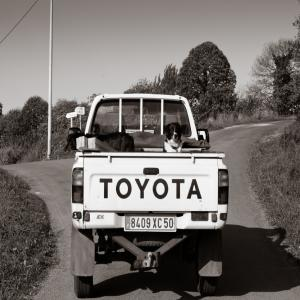Vehicle-registration-plate: (125, 215, 177, 232)
